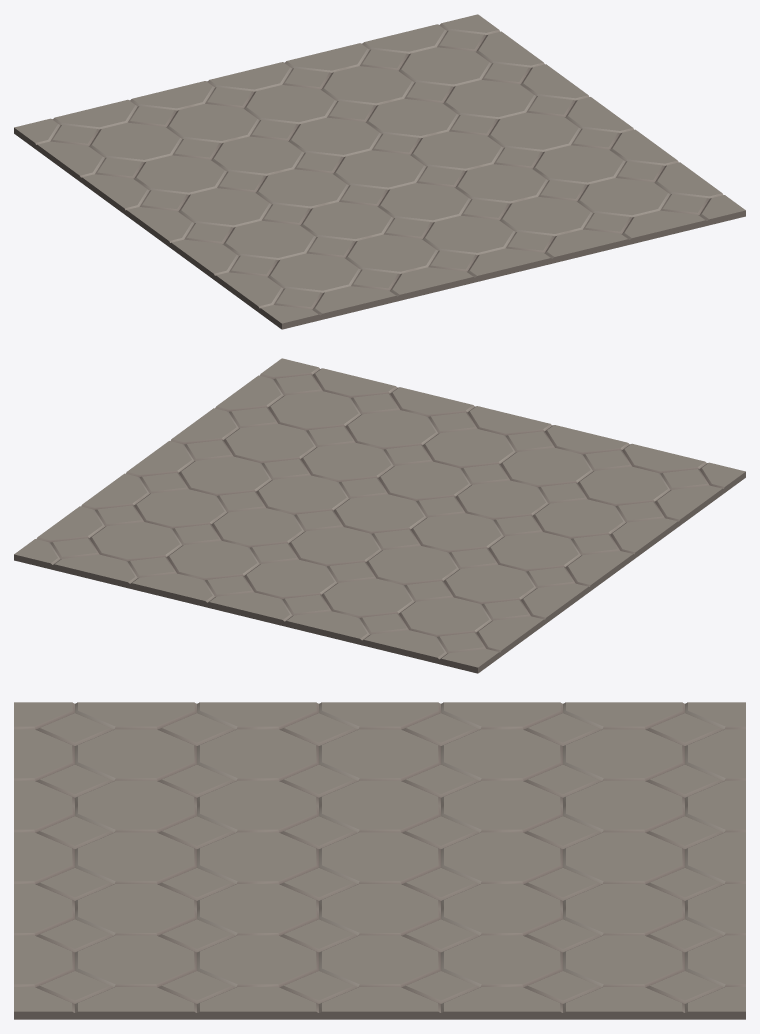
File: dungeon_floor_3x3.glb
3 views of the same model, one above another, from view 1: azimuth 30°, elevation 25°; view 2: azimuth 150°, elevation 25°; view 3: azimuth 270°, elevation 25° (orthographic). The views are drawn at different scales.
Visible parts, largest first — view 1: floor_tile_large.006; view 2: floor_tile_large.006; view 3: floor_tile_large.006.
Boxes of the visible parts, box(x1,y1,x2,y2) form: floor_tile_large.006: box(14, 14, 745, 329); floor_tile_large.006: box(14, 358, 745, 673); floor_tile_large.006: box(14, 702, 745, 1019).
Bounding box in the file's own units: 12 × 0.15 × 12.
1 material, 1 textured.
